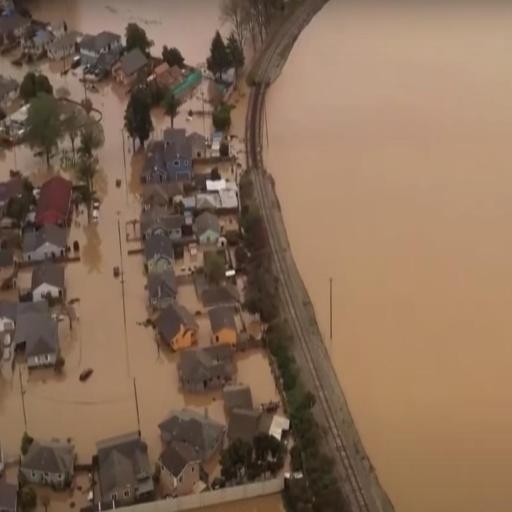flood: (264, 1, 512, 510), (0, 76, 197, 465), (30, 0, 220, 63), (0, 48, 84, 100), (0, 136, 75, 185), (236, 349, 280, 408), (229, 82, 250, 137), (174, 98, 204, 134), (152, 107, 170, 138), (205, 114, 215, 136)
house: (160, 402, 226, 473), (92, 430, 154, 502), (7, 297, 61, 371), (176, 345, 241, 396), (141, 132, 193, 189), (24, 436, 77, 490), (158, 435, 204, 496), (34, 174, 74, 228), (158, 302, 200, 353), (21, 224, 69, 265), (110, 47, 150, 92), (30, 260, 66, 306), (81, 30, 121, 64), (209, 303, 238, 348), (142, 206, 182, 238), (145, 236, 176, 270), (148, 270, 177, 304), (52, 30, 78, 60), (197, 210, 221, 242), (20, 33, 46, 55)
